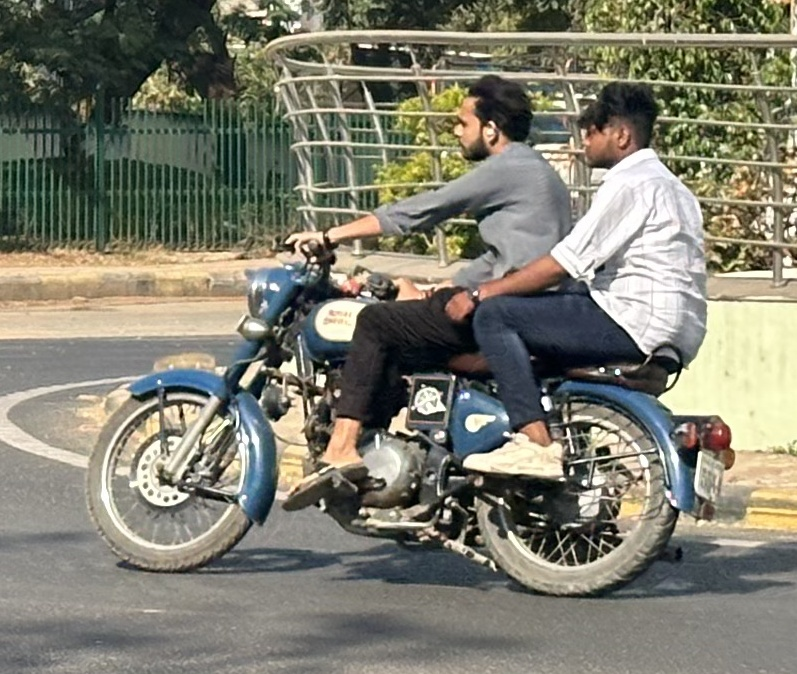BikeWithRider: (71, 62, 745, 605)
NoHelmet: (568, 74, 669, 171), (444, 69, 541, 163)
